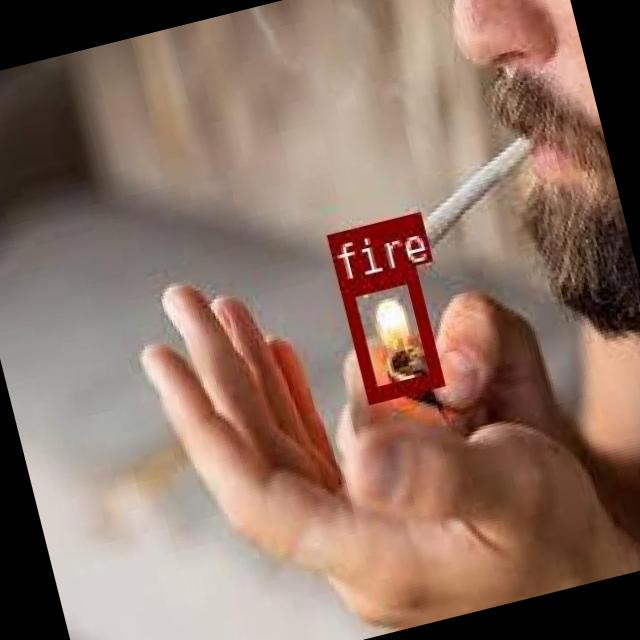fire: (336, 264, 439, 399)
